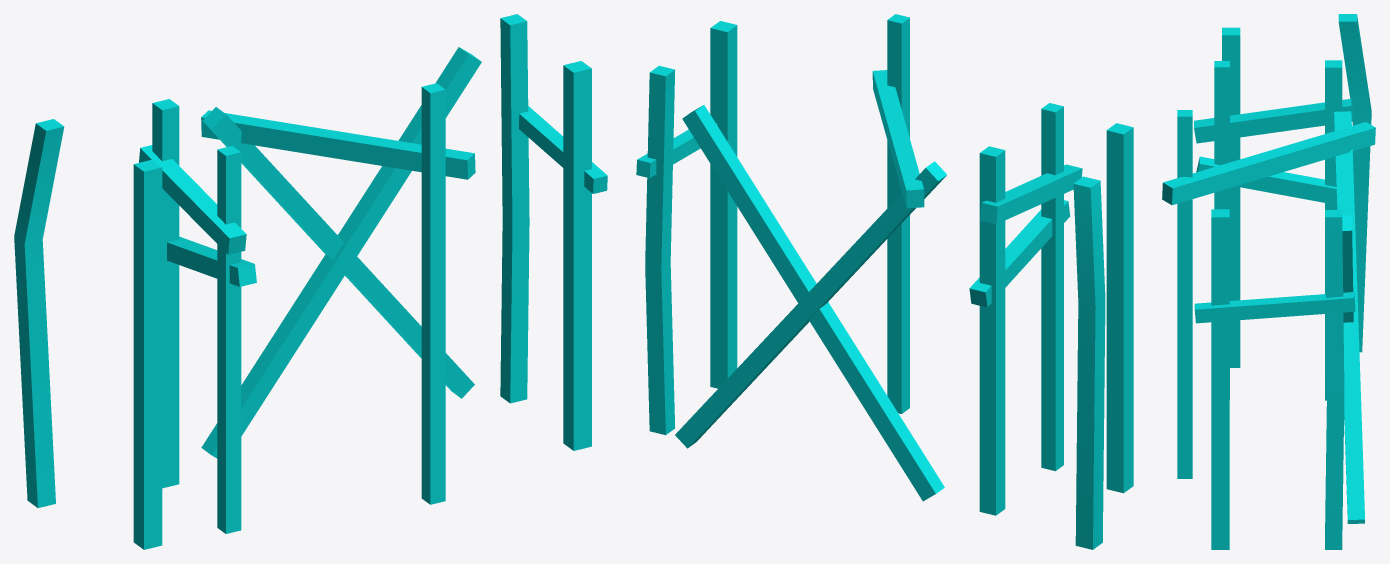
The model's file is SM_Bld_Camper_01_Platform_Poles_01_Collision.fbx.
3 renders of one model, left to right at view 1: azimuth 30°, elevation 25°; view 2: azimuth 150°, elevation 25°; view 3: azimuth 270°, elevation 25°, orthographic. The views are drawn at different scales.
Parts seen in each view (by area): view 1: SM_Bld_Camper_01_Platform_Poles_01_Collision; view 2: SM_Bld_Camper_01_Platform_Poles_01_Collision; view 3: SM_Bld_Camper_01_Platform_Poles_01_Collision.
Part boxes in pixels (left/top/right/bottom): SM_Bld_Camper_01_Platform_Poles_01_Collision: left=14, top=14, right=607, bottom=549; SM_Bld_Camper_01_Platform_Poles_01_Collision: left=636, top=14, right=1133, bottom=549; SM_Bld_Camper_01_Platform_Poles_01_Collision: left=1162, top=14, right=1375, bottom=549.
Bounding box in the file's own units: 656 × 524 × 280.
